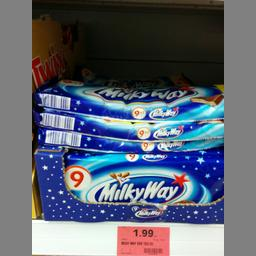chocolate: (34, 73, 220, 122), (62, 150, 223, 204), (38, 122, 220, 152)
